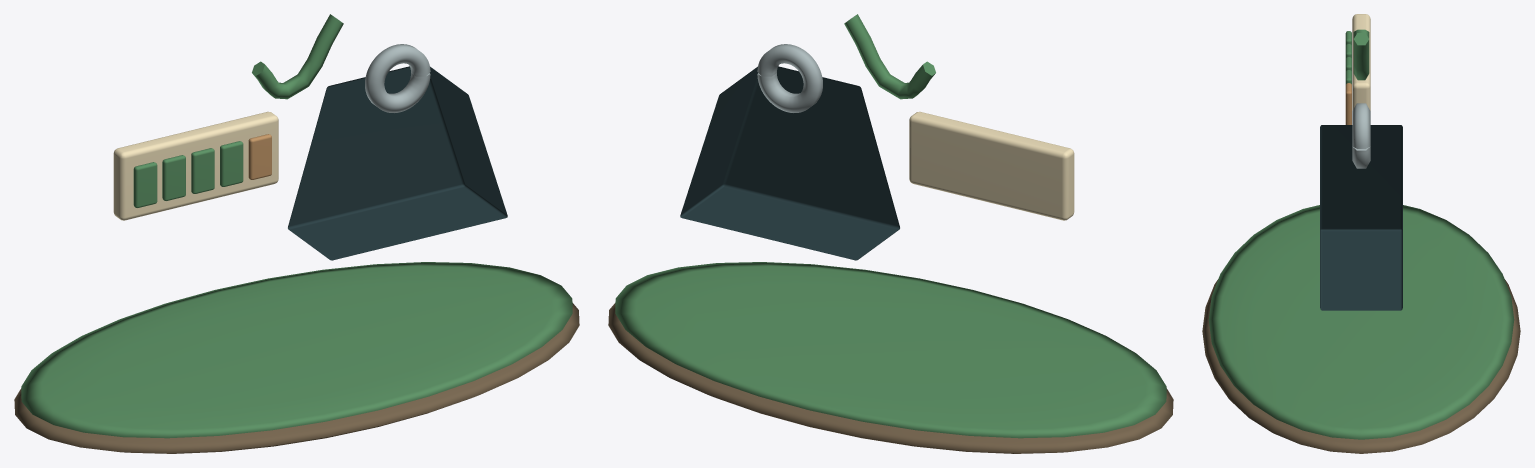
File: complete-second-able-strength.glb
3 renders of one model, left to right at view 1: azimuth 30°, elevation 25°; view 2: azimuth 150°, elevation 25°; view 3: azimuth 270°, elevation 25°, orthographic. The views are drawn at different scales.
Visible parts, largest first — view 1: complete-second-able-strength_surface_01, complete-second-able-strength_surface_04, complete-second-able-strength_surface_00, complete-second-able-strength_surface_02, complete-second-able-strength_surface_05, complete-second-able-strength_surface_03; view 2: complete-second-able-strength_surface_01, complete-second-able-strength_surface_04, complete-second-able-strength_surface_02, complete-second-able-strength_surface_00, complete-second-able-strength_surface_05; view 3: complete-second-able-strength_surface_01, complete-second-able-strength_surface_04, complete-second-able-strength_surface_00, complete-second-able-strength_surface_05, complete-second-able-strength_surface_02.
Boxes of the visible parts, box(x1,y1,x2,y2) form: complete-second-able-strength_surface_01: box(21, 14, 572, 438); complete-second-able-strength_surface_04: box(288, 66, 507, 260); complete-second-able-strength_surface_00: box(14, 303, 579, 453); complete-second-able-strength_surface_02: box(113, 111, 278, 220); complete-second-able-strength_surface_05: box(365, 44, 430, 112); complete-second-able-strength_surface_03: box(248, 134, 271, 179); complete-second-able-strength_surface_01: box(615, 14, 1166, 438); complete-second-able-strength_surface_04: box(680, 66, 899, 260); complete-second-able-strength_surface_02: box(909, 111, 1074, 220); complete-second-able-strength_surface_00: box(608, 303, 1173, 453); complete-second-able-strength_surface_05: box(757, 44, 822, 112); complete-second-able-strength_surface_01: box(1208, 29, 1514, 439); complete-second-able-strength_surface_04: box(1320, 125, 1402, 310); complete-second-able-strength_surface_00: box(1202, 279, 1520, 453); complete-second-able-strength_surface_05: box(1352, 103, 1370, 168); complete-second-able-strength_surface_02: box(1352, 14, 1370, 110).
Size of the model in its own units: 4.56 by 2.86 by 2.5.
